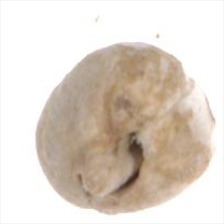L3: (75, 131, 146, 199)
L4: (34, 42, 214, 214)
